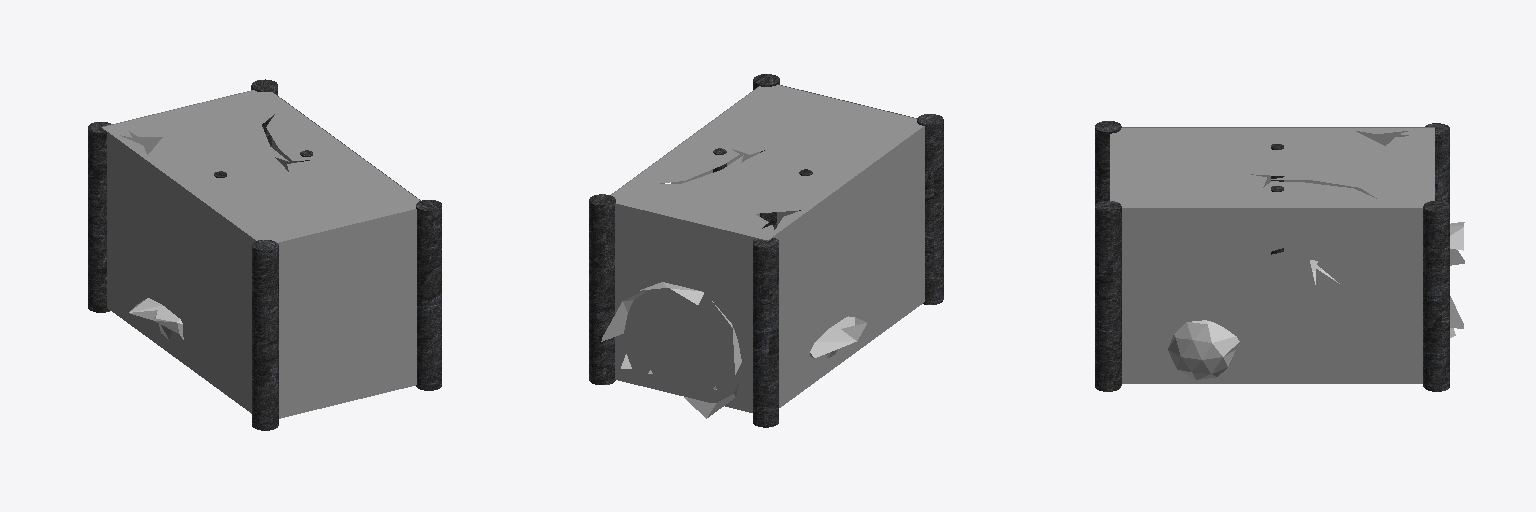
The picture shows the model from 3 angles: view 1: azimuth 30°, elevation 25°; view 2: azimuth 150°, elevation 25°; view 3: azimuth 270°, elevation 25°; orthographic projection.
Parts seen in each view (by area): view 1: Cube; view 2: Cube; view 3: Cube.
Part boxes in pixels (x1,y1,x2,y2): Cube: (88,79,441,430); Cube: (589,74,943,427); Cube: (1095,121,1464,391).
Size of the model in its own units: 34.72 by 28.19 by 51.26.
6 materials, 1 textured.